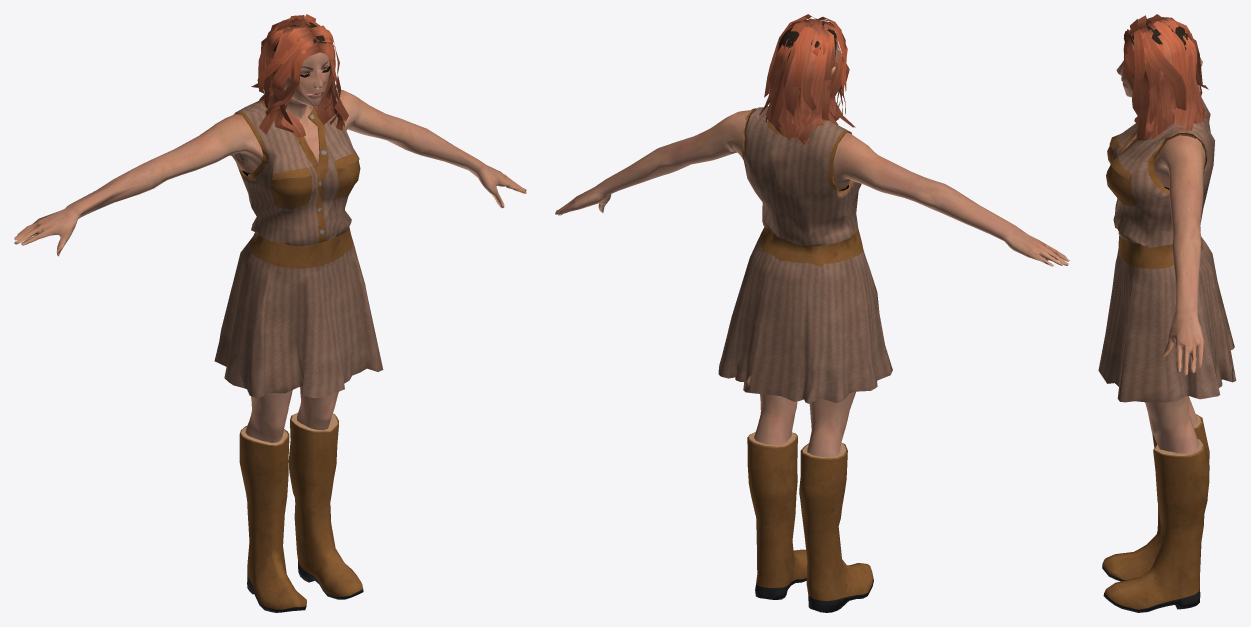
File: GIRL B.fbx
3 renders of one model, left to right at view 1: azimuth 30°, elevation 25°; view 2: azimuth 150°, elevation 25°; view 3: azimuth 270°, elevation 25°, orthographic.
Parts seen in each view (by area): view 1: WOMEN; view 2: WOMEN; view 3: WOMEN.
Boxes of the visible parts, left/top/right/bottom form: WOMEN: left=14, top=14, right=526, bottom=612; WOMEN: left=555, top=14, right=1069, bottom=612; WOMEN: left=1098, top=14, right=1236, bottom=612.
Bounding box in the file's own units: 185 × 198 × 43.29.
Materials: 4 (4 with a texture image).
